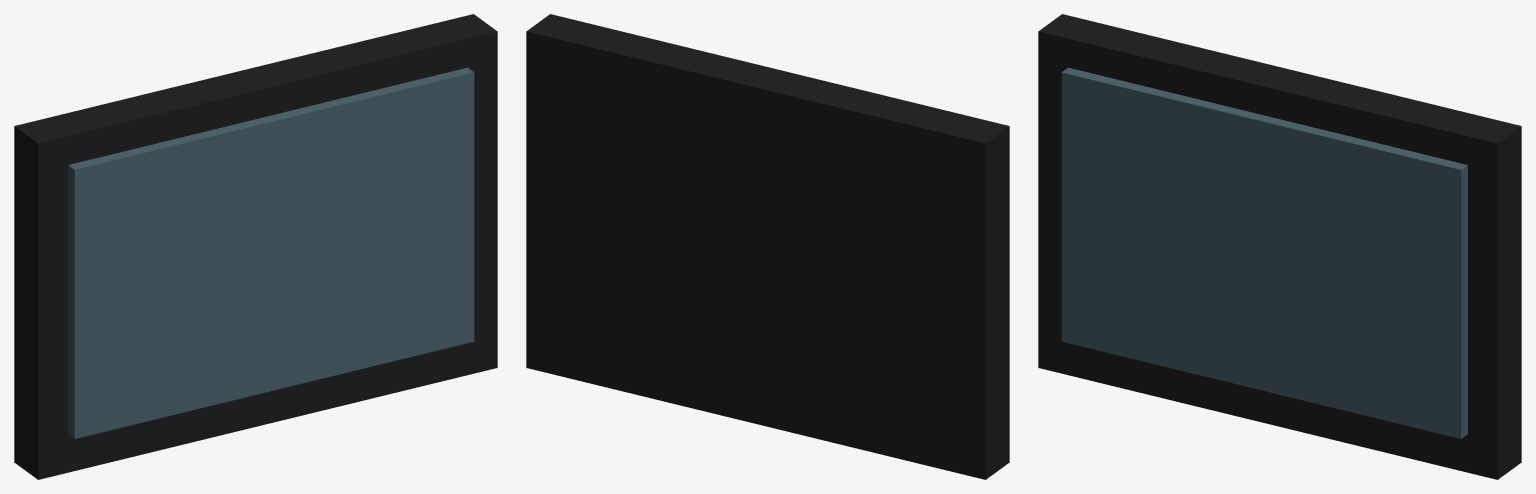
File: T7_ranger_tablet_a.glb
3 renders of one model, left to right at view 1: azimuth 30°, elevation 25°; view 2: azimuth 150°, elevation 25°; view 3: azimuth 330°, elevation 25°, orthographic.
Parts seen in each view (by area): view 1: T7_ranger_tablet_a; view 2: T7_ranger_tablet_a; view 3: T7_ranger_tablet_a.
Boxes of the visible parts, bbox=[...] form: T7_ranger_tablet_a: bbox=[14, 14, 497, 479]; T7_ranger_tablet_a: bbox=[526, 14, 1009, 479]; T7_ranger_tablet_a: bbox=[1038, 14, 1521, 479].
Bounding box in the file's own units: 0.2 × 0.14 × 0.023.
